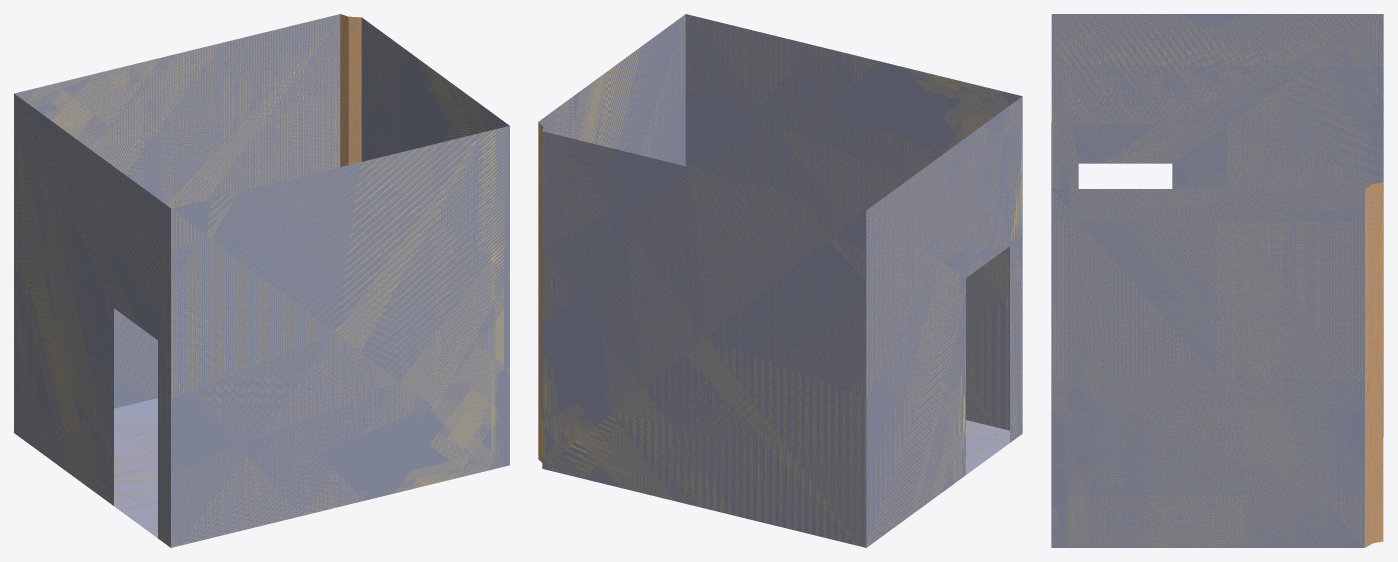
File: DES033.obj
The picture shows the model from 3 angles, left to right: view 1: azimuth 30°, elevation 25°; view 2: azimuth 150°, elevation 25°; view 3: azimuth 270°, elevation 25°; orthographic projection. The views are drawn at different scales.
Parts seen in each view (by area): view 1: Mesh1 des033 Model; view 2: Mesh1 des033 Model; view 3: Mesh1 des033 Model.
Boxes of the visible parts, x1,y1,x2,y2 form: Mesh1 des033 Model: [14, 14, 509, 547]; Mesh1 des033 Model: [538, 14, 1022, 547]; Mesh1 des033 Model: [1051, 14, 1383, 547].
Bounding box in the file's own units: 3.76 × 3.6 × 3.02.
Materials: 4 (1 with a texture image).
